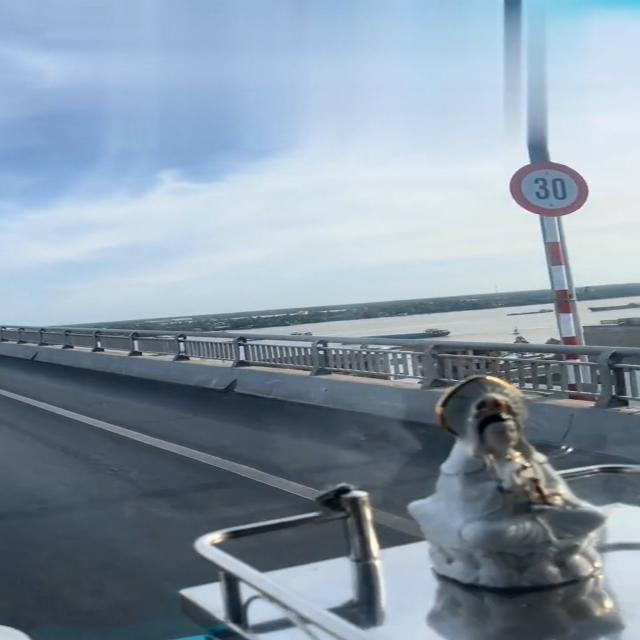127-toc-do-toi-da-30: (507, 161, 590, 217)
